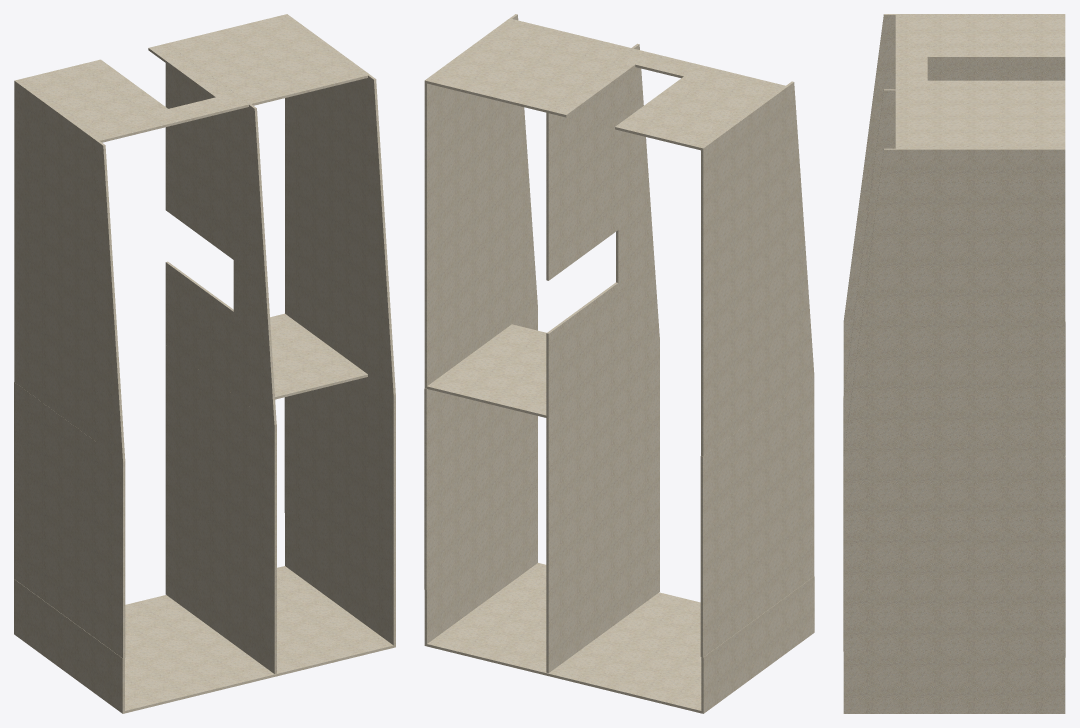
The model's file is pared.dae.
The picture shows the model from 3 angles, left to right: view 1: azimuth 30°, elevation 25°; view 2: azimuth 150°, elevation 25°; view 3: azimuth 270°, elevation 25°; orthographic projection. The views are drawn at different scales.
Parts seen in each view (by area): view 1: node; view 2: node; view 3: node.
Part boxes in pixels (x1,y1,x2,y2): node: (14,14,395,713); node: (424,14,814,713); node: (843,14,1065,713).
Bounding box in the file's own units: 4742 × 9184 × 3283.
1 material, 1 textured.
